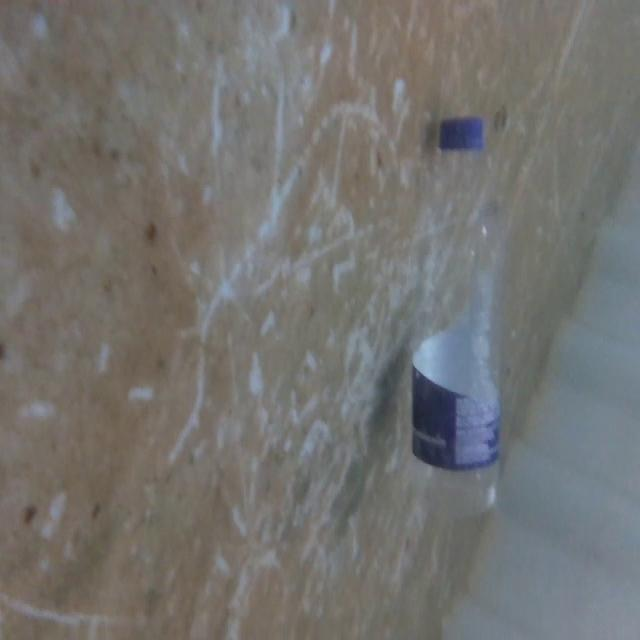plastic bottle: (407, 92, 513, 530)
